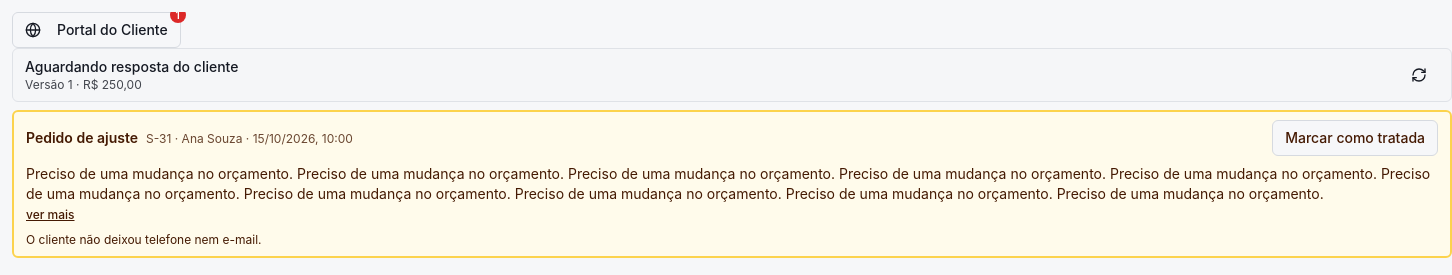
it: DecisaoOrcamentoCard › negociação e pedidos de ajuste › pedido de ajuste (MUDANCA) fica âmbar e a mensagem longa tem 'ver mais'
Expected: the text "Pedido de ajuste" is shown, [26,129,138,146]
Expected: the text with class "line-clamp-2" is shown, [26,164,1438,204]
Click the button "ver mais". click: (50, 215)
box: [26,207,74,223]
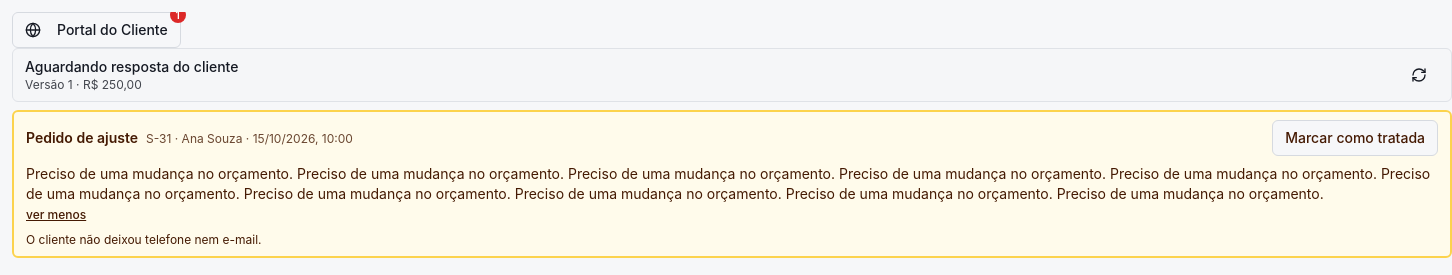
Expected: the button "ver menos" is shown, [26,207,86,223]
